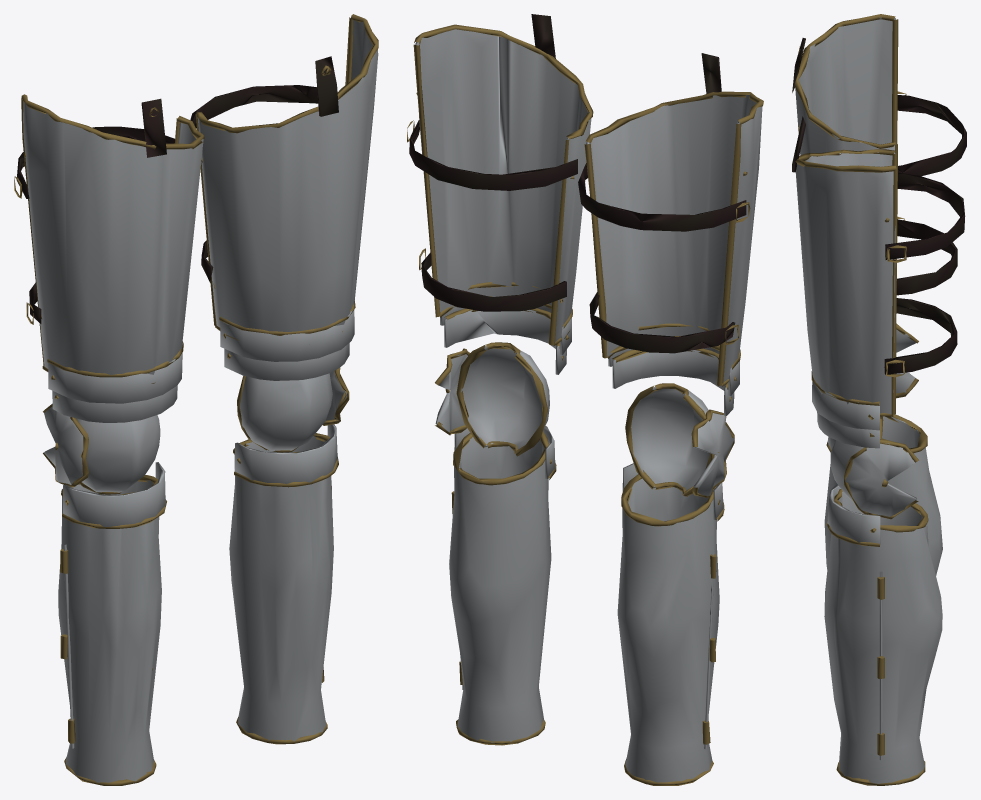
3 views of the same model, side by side, from view 1: azimuth 30°, elevation 25°; view 2: azimuth 150°, elevation 25°; view 3: azimuth 270°, elevation 25° (orthographic). The views are drawn at different scales.
Visible parts, largest first — view 1: polished fluted plate, oiled strap leather; view 2: polished fluted plate, oiled strap leather; view 3: polished fluted plate, oiled strap leather.
Boxes of the visible parts, x1,y1,x2,y2 form: polished fluted plate: (14, 14, 378, 785); oiled strap leather: (16, 56, 338, 323); polished fluted plate: (407, 24, 763, 785); oiled strap leather: (409, 14, 746, 353); polished fluted plate: (794, 14, 942, 785); oiled strap leather: (792, 38, 966, 374).
Bounding box in the file's own units: 0.4188 × 0.8142 × 0.1985.
